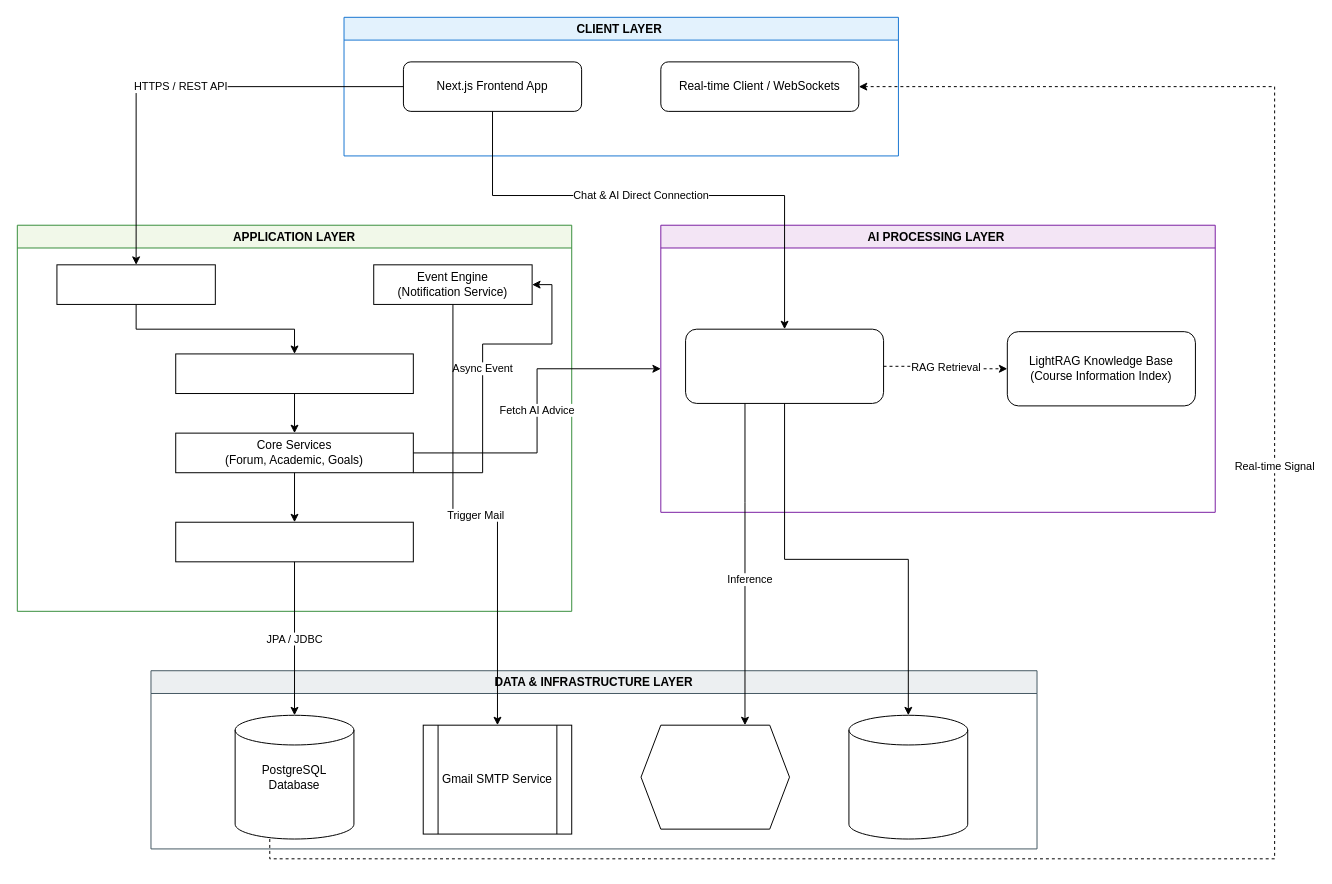
Image size: 1332x884. Some labels were removed from this diagram. The shapes that lost their labels are listed below. From the top down, each one's centre as x and y in pixels, then its label:
point (135, 284): Spring Security - JWT Auth
point (294, 373): Controller
point (784, 365): Multi-Agent System (LangChain Framework)
point (294, 541): Data Access (JPA / Hibernate)
point (715, 776): Foundation Models (Llama 3 / OpenAI)
point (908, 776): MongoDB (Chat History)
